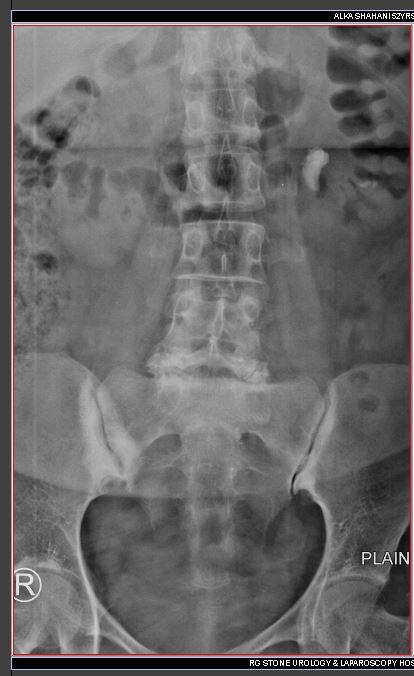vertebrae: (175, 22, 250, 78)
